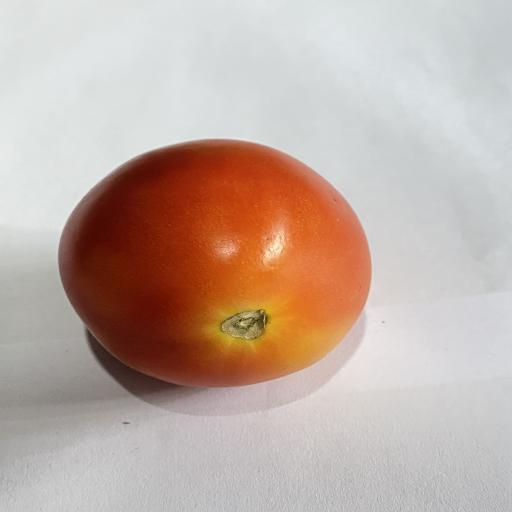ripe: (59, 140, 371, 387)
